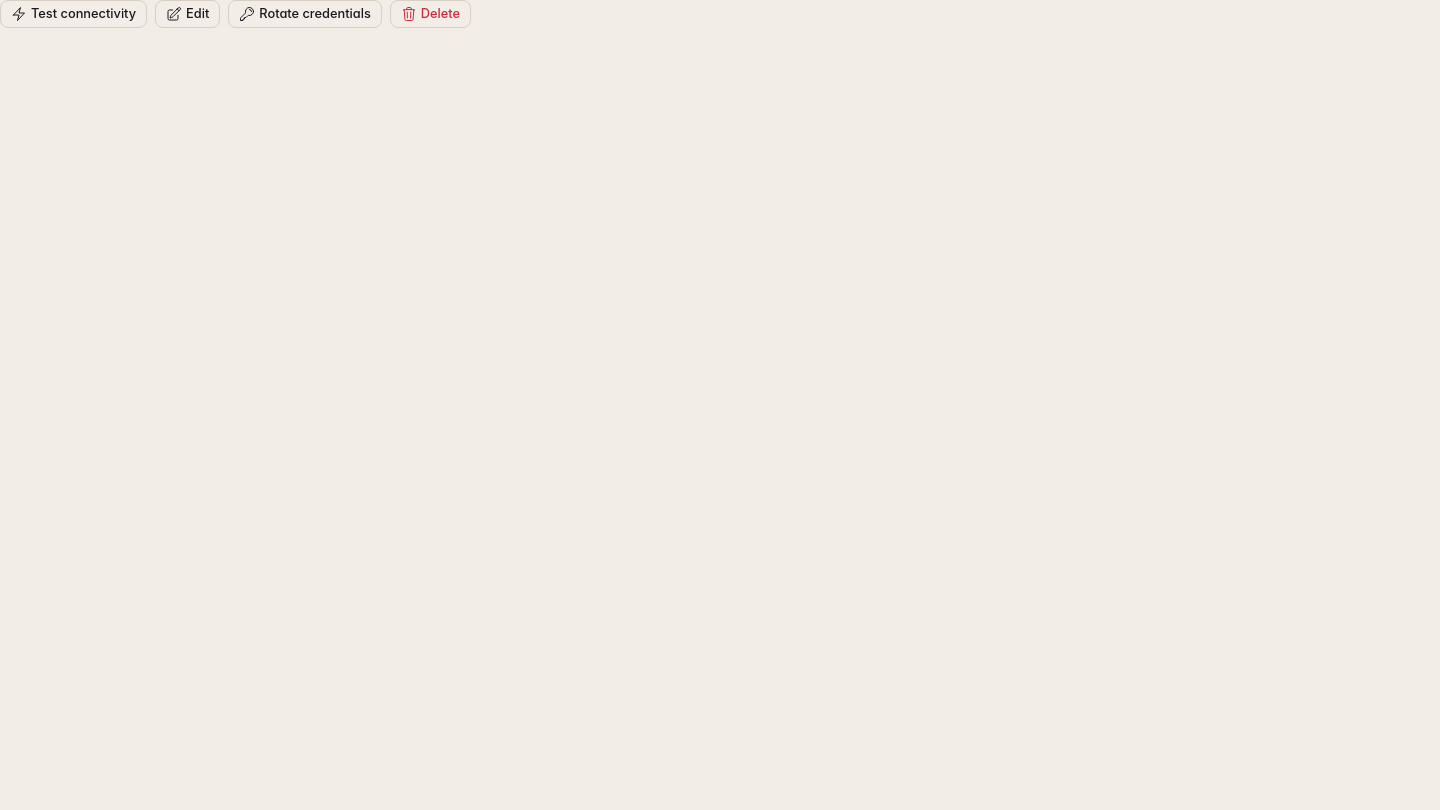
Test: BackendActions › keeps the dialog open with the reason when the delete is refused
The width and height of the screenshot is (1440, 810).
Click the button "Delete" at (430, 14), box x1=390 y1=0 x2=471 y2=28
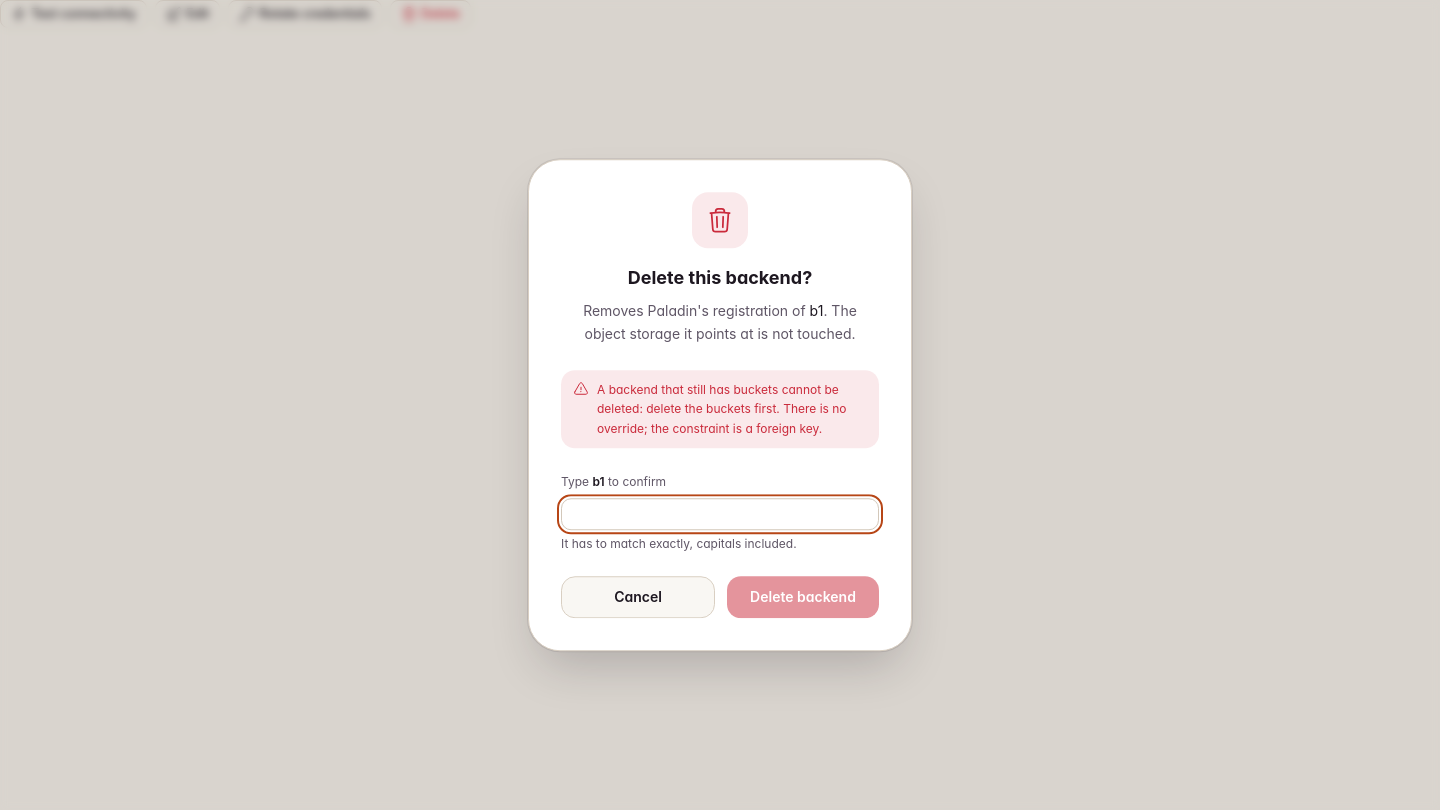
Type "b1" into the field labelled "Type b1 to confirm" at (720, 514), box x1=561 y1=498 x2=879 y2=530
Then press Enter
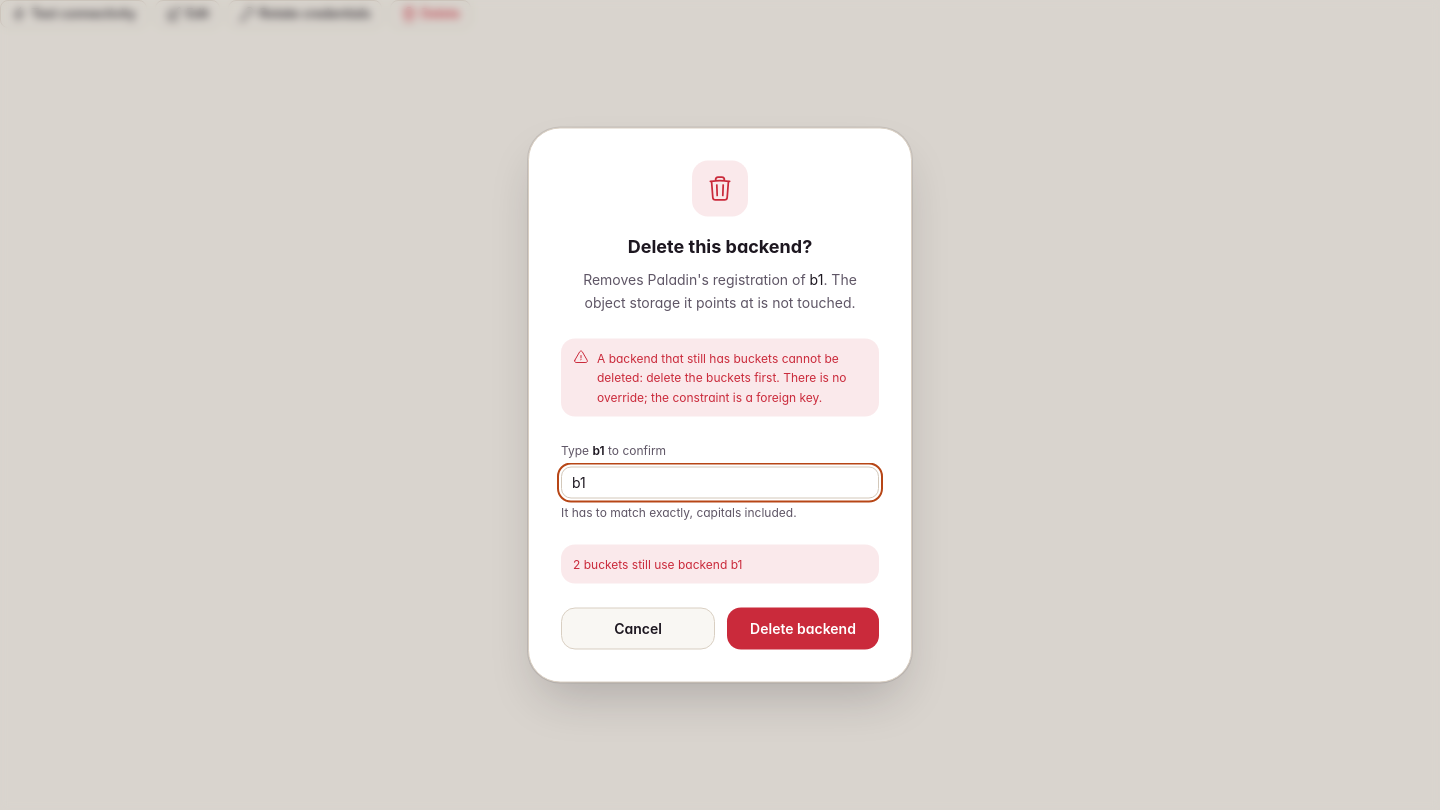
Expected: the dialog is shown, x1=528 y1=128 x2=912 y2=682
Expected: the message reads "2 buckets still use backend b1", x1=573 y1=556 x2=742 y2=571
